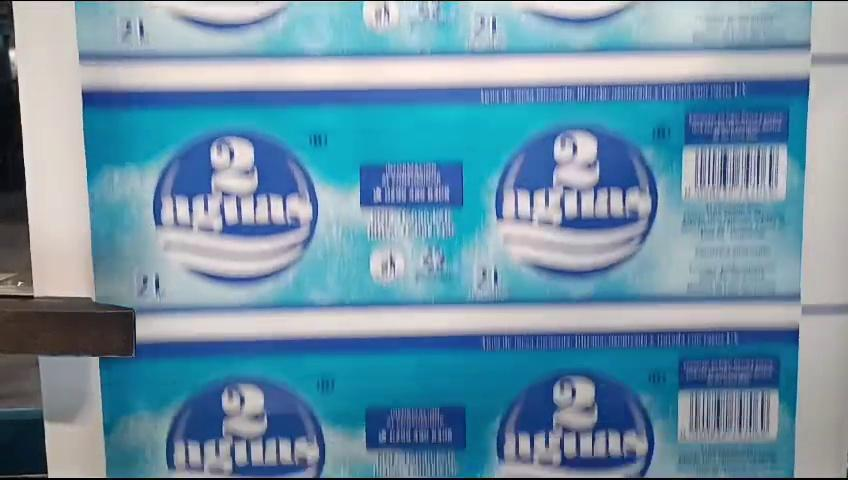print: (76, 75, 814, 314)
